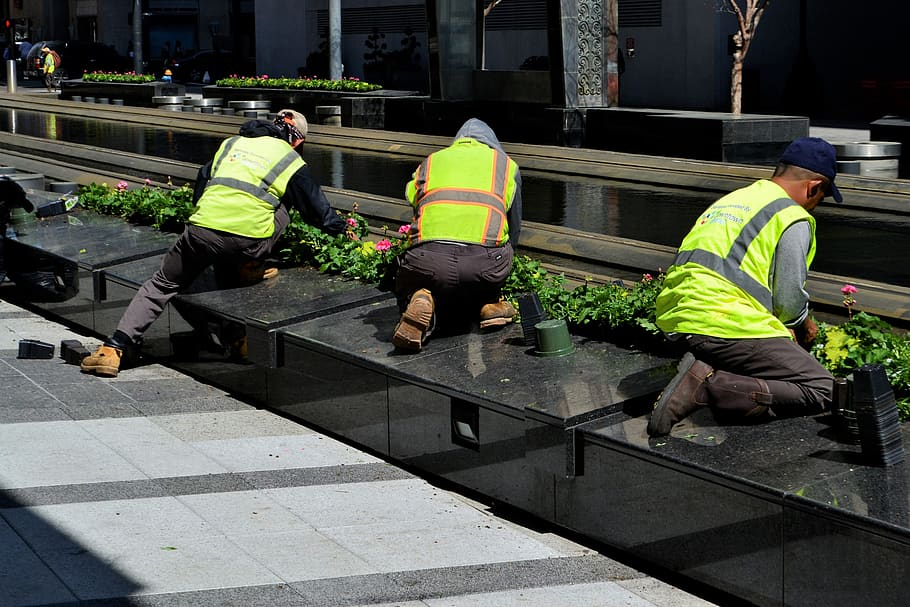Person: (76, 111, 349, 378), (656, 161, 827, 438), (388, 122, 518, 349), (39, 49, 61, 96)
Vest: (656, 163, 829, 344), (188, 113, 300, 238), (412, 142, 520, 251)
